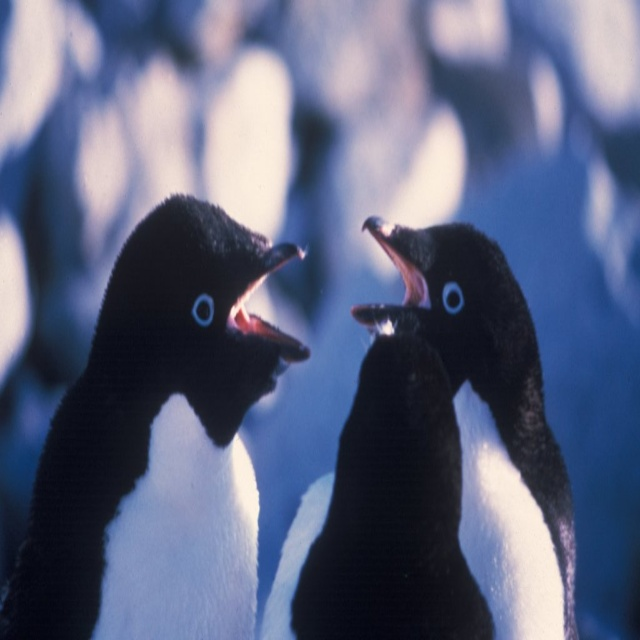Penguin: (0, 186, 312, 639), (259, 214, 578, 639)
